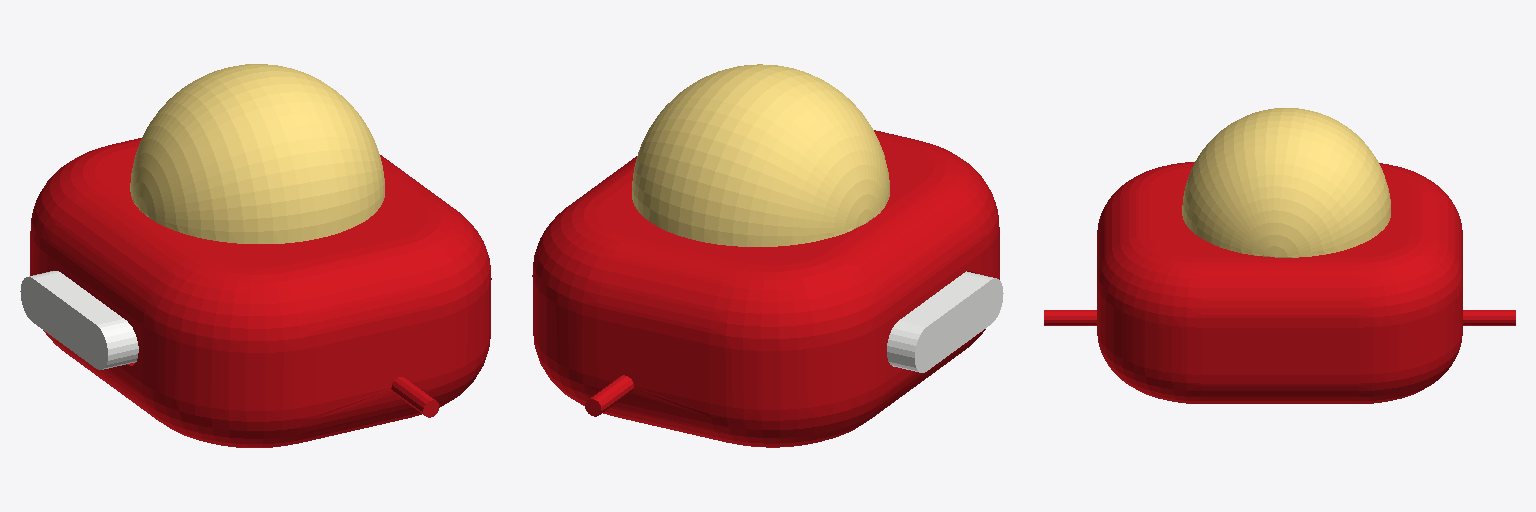
robot.urdf — mark_fbj:
<?xml version="1.0" encoding="utf-8"?>
<!-- This URDF was automatically created by SolidWorks to URDF Exporter! Originally created by [author] ([email redacted]) 
     Commit Version: 1.6.0-4-g7f85cfe  Build Version: 1.6.7995.38578
     For more information, please see http://wiki.ros.org/sw_urdf_exporter -->
<robot
  name="mark_fbj">
  <link
    name="base_link">
    <inertial>
      <origin
        xyz="-0.033289 0.022731 0.125"
        rpy="0 0 0" />
      <mass
        value="0.85081" />
      <inertia
        ixx="0.0013939"
        ixy="7.9629E-06"
        ixz="8.9385E-13"
        iyy="0.0020002"
        iyz="9.055E-12"
        izz="0.0010651" />
    </inertial>
    <visual>
      <origin
        xyz="0 0 0"
        rpy="0 0 0" />
      <geometry>
        <mesh
          filename="package://mark_fbj/meshes/base_link.STL" />
      </geometry>
      <material
        name="">
        <color
          rgba="0.83529 0.10984 0.1451 1" />
      </material>
    </visual>
    <collision>
      <origin
        xyz="0 0 0"
        rpy="0 0 0" />
      <geometry>
        <mesh
          filename="package://mark_fbj/meshes/base_link.STL" />
      </geometry>
    </collision>
  </link>
  <link
    name="right_wheel">
    <inertial>
      <origin
        xyz="1.3878E-17 1.7347E-18 -0.01"
        rpy="0 0 0" />
      <mass
        value="0.099965" />
      <inertia
        ixx="4.3543E-05"
        ixy="-2.6386E-37"
        ixz="-4.4116E-24"
        iyy="4.3543E-05"
        iyz="-4.5918E-38"
        izz="8.0422E-05" />
    </inertial>
    <visual>
      <origin
        xyz="0 0 0"
        rpy="0 0 0" />
      <geometry>
        <mesh
          filename="package://mark_fbj/meshes/right_wheel.STL" />
      </geometry>
      <material
        name="">
        <color
          rgba="0.69019 0.68627 0.67843 1" />
      </material>
    </visual>
    <collision>
      <origin
        xyz="0 0 0"
        rpy="0 0 0" />
      <geometry>
        <mesh
          filename="package://mark_fbj/meshes/right_wheel.STL" />
      </geometry>
    </collision>
  </link>
  <joint
    name="right_wheel_joint"
    type="continuous">
    <origin
      xyz="-0.023709 -0.055 0.01262"
      rpy="1.5708 0 0" />
    <parent
      link="base_link" />
    <child
      link="right_wheel" />
    <axis
      xyz="0 0 1" />
  </joint>
  <link
    name="left_wheel">
    <inertial>
      <origin
        xyz="-3.4694E-18 1.7347E-18 0.01"
        rpy="0 0 0" />
      <mass
        value="0.099965" />
      <inertia
        ixx="4.3543E-05"
        ixy="-2.6386E-37"
        ixz="5.6028E-22"
        iyy="4.3543E-05"
        iyz="-9.0544E-38"
        izz="8.0422E-05" />
    </inertial>
    <visual>
      <origin
        xyz="0 0 0"
        rpy="0 0 0" />
      <geometry>
        <mesh
          filename="package://mark_fbj/meshes/left_wheel.STL" />
      </geometry>
      <material
        name="">
        <color
          rgba="0.69019 0.68627 0.67843 1" />
      </material>
    </visual>
    <collision>
      <origin
        xyz="0 0 0"
        rpy="0 0 0" />
      <geometry>
        <mesh
          filename="package://mark_fbj/meshes/left_wheel.STL" />
      </geometry>
    </collision>
  </link>
  <joint
    name="left_wheel_joint"
    type="continuous">
    <origin
      xyz="-0.023709 -0.195 0.01262"
      rpy="1.5708 0 0" />
    <parent
      link="base_link" />
    <child
      link="left_wheel" />
    <axis
      xyz="0 0 1" />
  </joint>
  <link
    name="camera_link">
    <inertial>
      <origin
        xyz="0.088101 0.0722 -0.011978"
        rpy="0 0 0" />
      <mass
        value="0.011651" />
      <inertia
        ixx="4.2448E-07"
        ixy="-3.6936E-23"
        ixz="4.3943E-22"
        iyy="2.8411E-06"
        iyz="3.3945E-10"
        izz="2.8535E-06" />
    </inertial>
    <visual>
      <origin
        xyz="0 0 0"
        rpy="0 0 0" />
      <geometry>
        <mesh
          filename="package://mark_fbj/meshes/camera_link.STL" />
      </geometry>
      <material
        name="">
        <color
          rgba="0.9803 0.9803 0.9725 1" />
      </material>
    </visual>
    <collision>
      <origin
        xyz="0 0 0"
        rpy="0 0 0" />
      <geometry>
        <mesh
          filename="package://mark_fbj/meshes/camera_link.STL" />
      </geometry>
    </collision>
  </link>
  <joint
    name="camera_link_joint"
    type="fixed">
    <origin
      xyz="-0.023709 -0.035 0.01262"
      rpy="-3.1279 0 -1.5708" />
    <parent
      link="base_link" />
    <child
      link="camera_link" />
    <axis
      xyz="1 0 0" />
    <limit
      lower="0"
      upper="0"
      effort="0"
      velocity="0" />
  </joint>
  <link
    name="sensor_link">
    <inertial>
      <origin
        xyz="0.0047846 -0.043843 0.017736"
        rpy="0 0 0" />
      <mass
        value="0.077493" />
      <inertia
        ixx="4.1051E-05"
        ixy="2.9646E-21"
        ixz="4.3944E-21"
        iyy="4.1051E-05"
        iyz="1.7231E-19"
        izz="6.5429E-05" />
    </inertial>
    <visual>
      <origin
        xyz="0 0 0"
        rpy="0 0 0" />
      <geometry>
        <mesh
          filename="package://mark_fbj/meshes/sensor_link.STL" />
      </geometry>
      <material
        name="">
        <color
          rgba="1 0.898 0.55294 1" />
      </material>
    </visual>
    <collision>
      <origin
        xyz="0 0 0"
        rpy="0 0 0" />
      <geometry>
        <mesh
          filename="package://mark_fbj/meshes/sensor_link.STL" />
      </geometry>
    </collision>
  </link>
  <joint
    name="sensor_link_joint"
    type="fixed">
    <origin
      xyz="-0.033162 -0.078327 0.052753"
      rpy="-0.0014827 0.013586 -0.10871" />
    <parent
      link="base_link" />
    <child
      link="sensor_link" />
    <axis
      xyz="0.10849 -0.9941 0" />
    <limit
      lower="0"
      upper="0"
      effort="0"
      velocity="0" />
  </joint>
</robot>

--- Render facts (derived) ---
3 views of the same robot in one strip: view 1: azimuth 30°, elevation 25°; view 2: azimuth 150°, elevation 25°; view 3: azimuth 270°, elevation 25° (orthographic).
Model mark_fbj with 5 links and 4 joints (2 continuous, 2 fixed), rooted at base_link, posed every joint at zero.
Visible links, largest first — view 1: base_link, sensor_link, camera_link; view 2: base_link, sensor_link, camera_link; view 3: base_link, sensor_link.
Link boxes in pixels (left/top/right/bottom): base_link: left=30, top=138, right=491, bottom=447; sensor_link: left=130, top=64, right=384, bottom=243; camera_link: left=20, top=271, right=138, bottom=369; base_link: left=532, top=130, right=999, bottom=447; sensor_link: left=632, top=64, right=889, bottom=246; camera_link: left=887, top=271, right=1003, bottom=372; base_link: left=1044, top=162, right=1515, bottom=403; sensor_link: left=1182, top=108, right=1390, bottom=257.
Bounding box of the posed robot: 0.1302 × 0.18 × 0.1004 m (x, y, z).
Meshes: 5 distinct files referenced, 3 mesh visuals loaded (3 binary STL); not drawn: 2 (reference not matched to a file when rendering).
